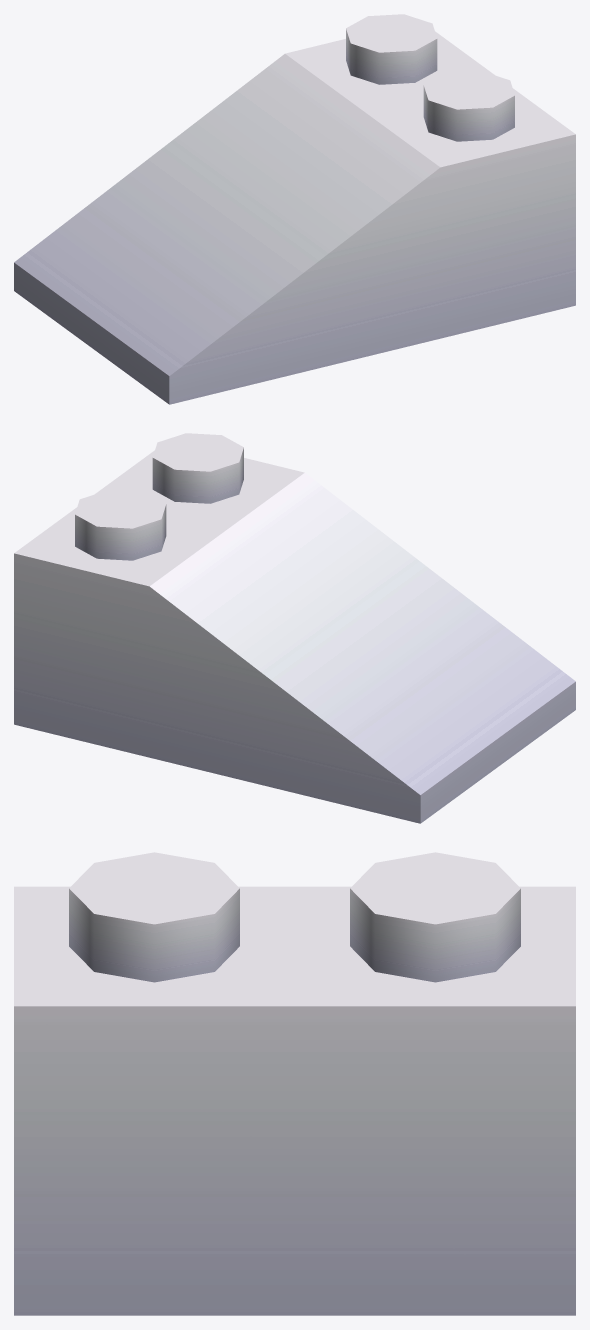
Rendered from round-lq-brick-slope-3x2.glb.
3 renders of one model, top to bottom at view 1: azimuth 30°, elevation 25°; view 2: azimuth 150°, elevation 25°; view 3: azimuth 270°, elevation 25°, orthographic. The views are drawn at different scales.
Parts seen in each view (by area): view 1: round-lq-brick-slope-3x2; view 2: round-lq-brick-slope-3x2; view 3: round-lq-brick-slope-3x2.
Boxes of the visible parts, <box> form: round-lq-brick-slope-3x2: <box>14,14,575,404</box>; round-lq-brick-slope-3x2: <box>14,433,575,823</box>; round-lq-brick-slope-3x2: <box>14,852,575,1315</box>.
Size of the model in its own units: 0.2385 by 0.114 by 0.158.
1 material, 1 textured.
